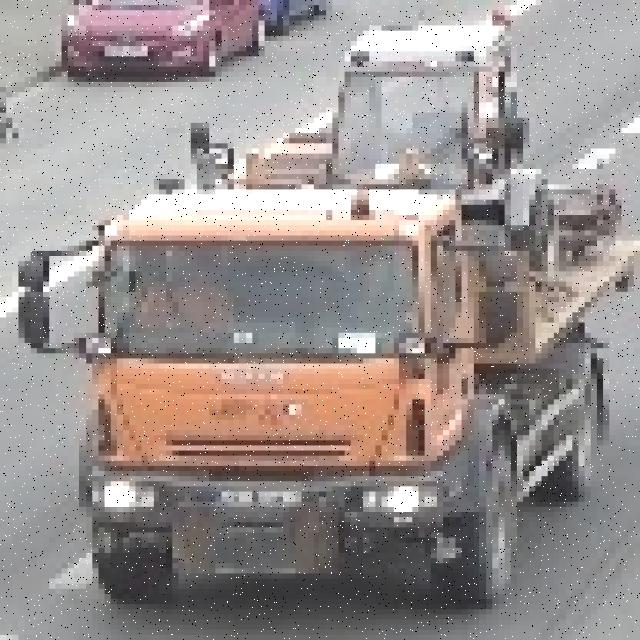truck: (25, 128, 640, 599)
